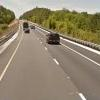Car: (41, 27, 66, 50)
